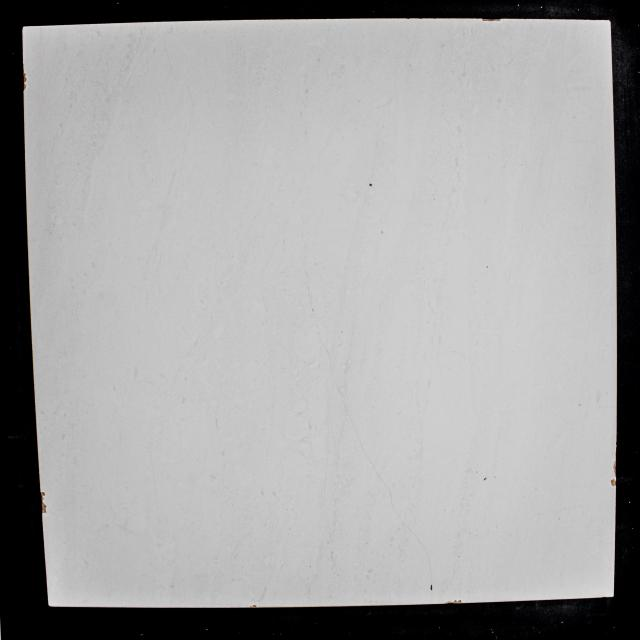edge-chipping: (481, 18, 501, 22), (41, 502, 47, 514), (22, 72, 28, 82), (40, 491, 46, 500), (613, 460, 616, 477), (610, 478, 616, 486), (23, 83, 27, 92), (252, 605, 257, 608)
hole: (483, 476, 487, 482), (430, 584, 433, 591), (453, 600, 458, 603), (458, 600, 463, 603), (369, 183, 373, 186)
line: (303, 269, 314, 312), (368, 459, 380, 479), (395, 509, 407, 527), (421, 543, 430, 563), (408, 528, 420, 542), (330, 355, 336, 382), (343, 400, 351, 420), (352, 421, 359, 441), (336, 383, 343, 400), (321, 341, 329, 354), (429, 564, 434, 584), (361, 442, 367, 458), (389, 490, 394, 509), (381, 480, 388, 489), (316, 322, 318, 331)
